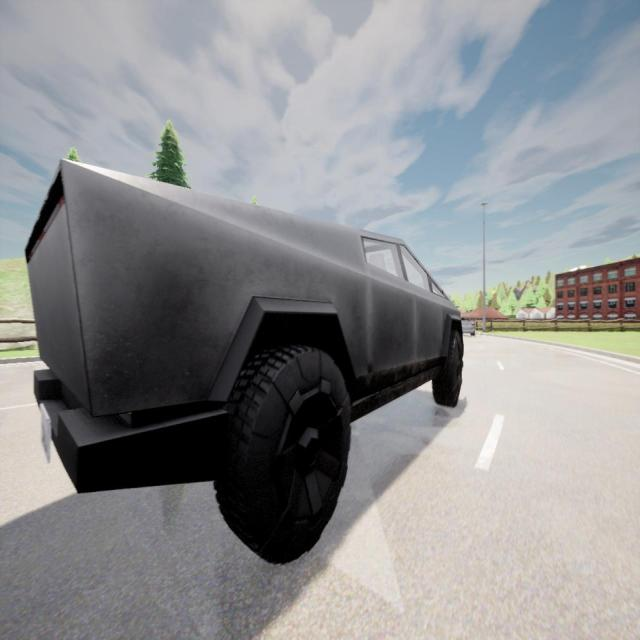Vehicle: (26, 160, 464, 561), (461, 316, 476, 336)
